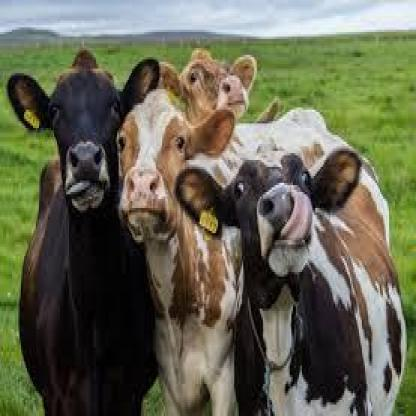cow: (116, 89, 326, 416), (173, 144, 406, 416), (6, 48, 161, 416), (158, 45, 258, 126)
